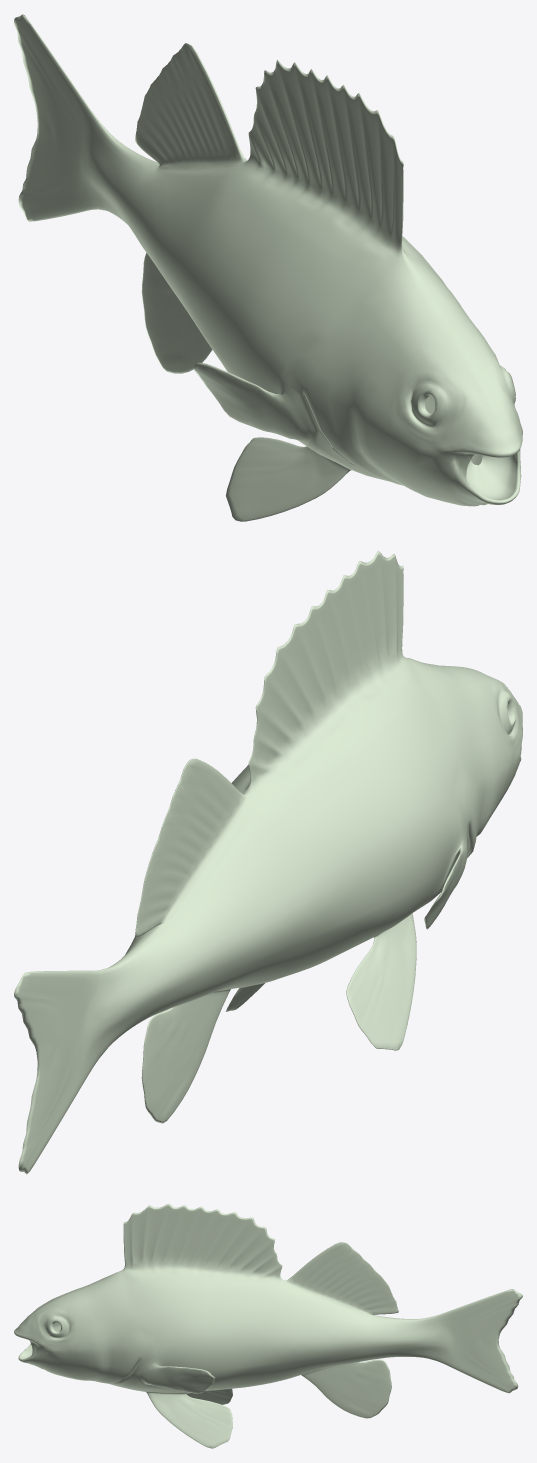
Rendered from Fish Perch.fbx.
3 renders of one model, top to bottom at view 1: azimuth 30°, elevation 25°; view 2: azimuth 150°, elevation 25°; view 3: azimuth 270°, elevation 25°, orthographic. The views are drawn at different scales.
Parts seen in each view (by area): view 1: Fish; view 2: Fish; view 3: Fish.
Part boxes in pixels (box(x1,y1,x2,y2)): Fish: box(14, 14, 522, 521); Fish: box(14, 550, 522, 1174); Fish: box(14, 1203, 522, 1448).
Size of the model in its own units: 87.56 by 148 by 305.
